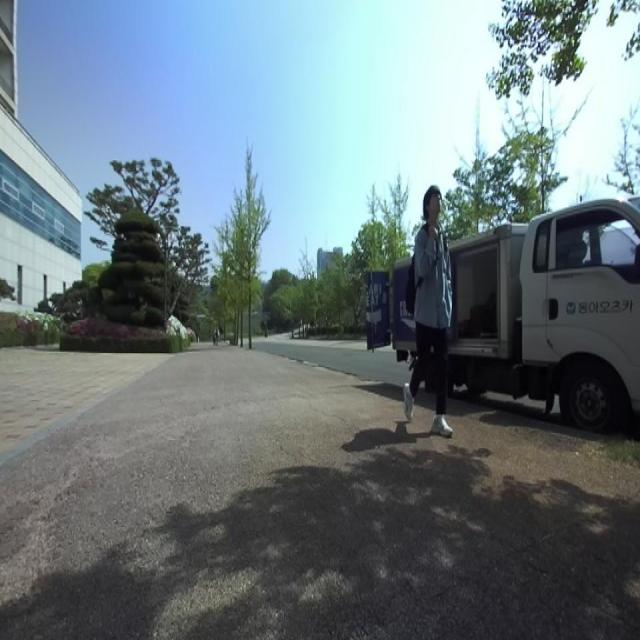sidewalk: (0, 343, 640, 639)
